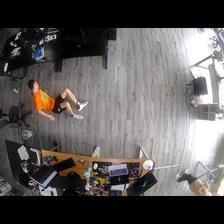fall: (25, 77, 88, 120)
